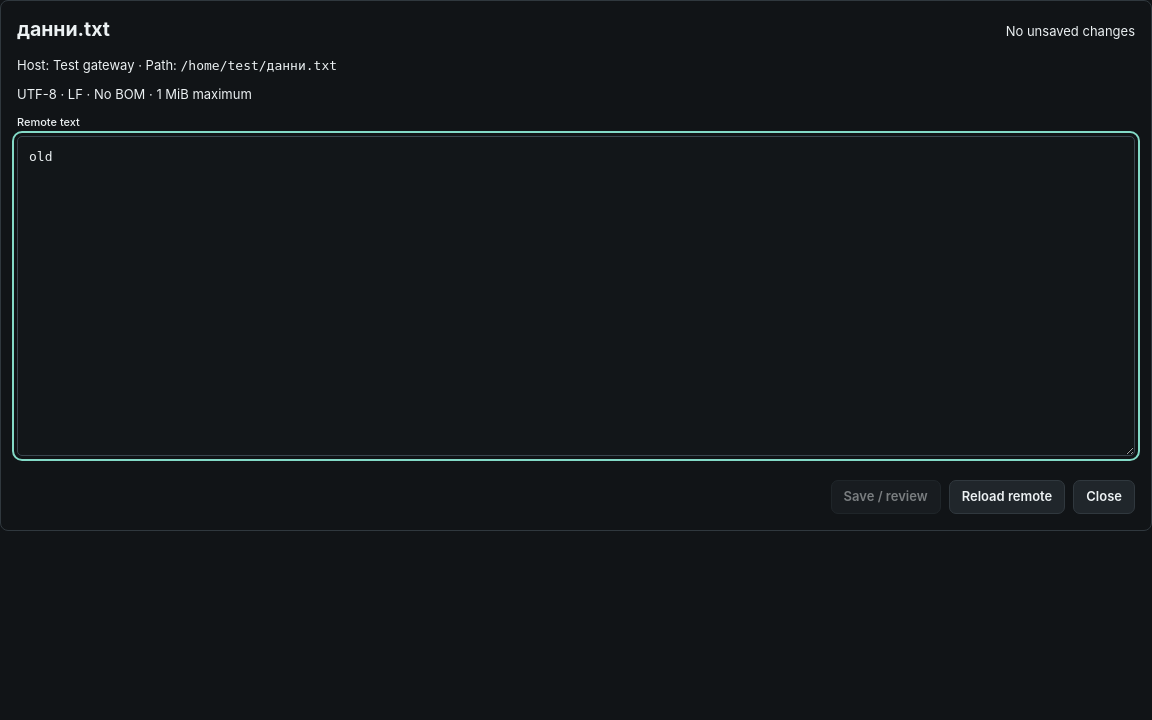
Test: remote text editor authority and interaction › retires the old token after reload and the replacement on unmount
What coordinates should you click on to do the following:
click the button "Reload remote"
I would click on:
 (1007, 497)
Its box is [949, 480, 1065, 514].
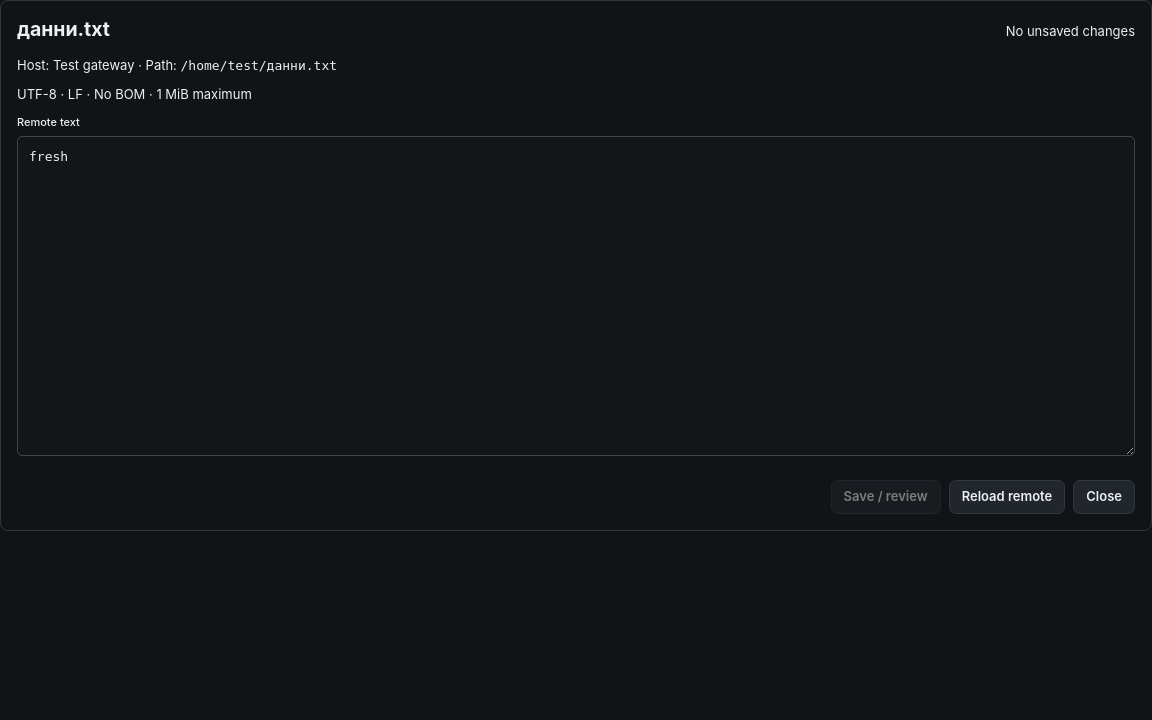
Expected: the text box labelled "Remote text" holds "fresh", [17, 136, 1135, 456]
